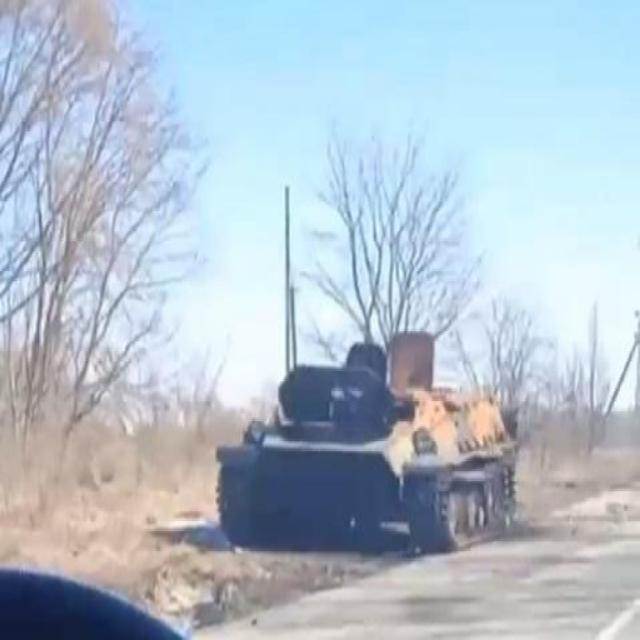APC-IFV: (211, 324, 524, 558)
